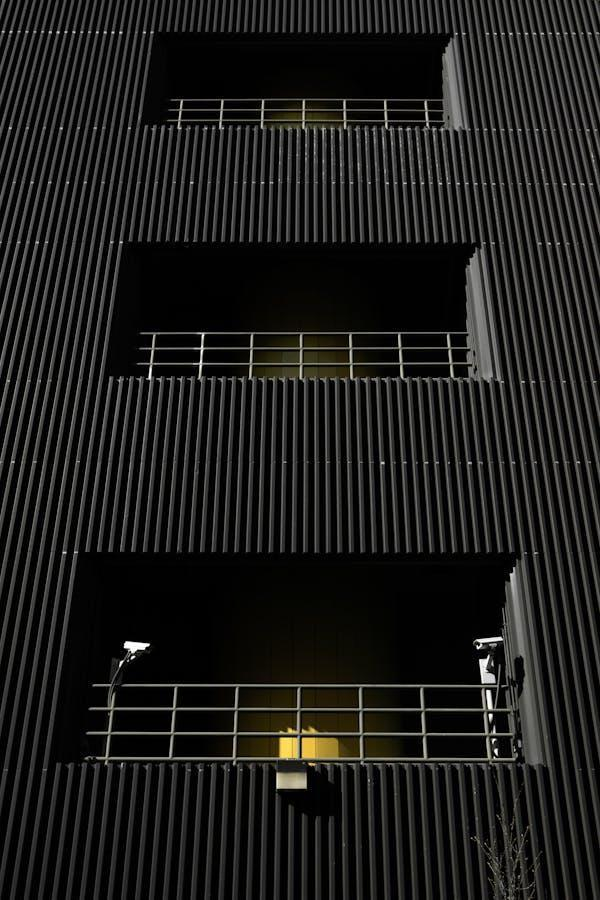camera: (428, 625, 538, 698), (90, 615, 163, 693)
